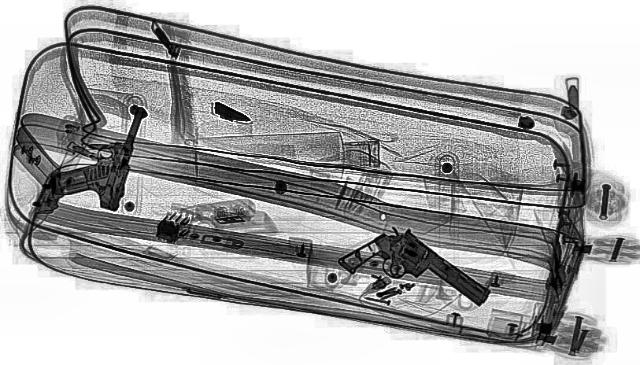Gun: (322, 222, 506, 326), (45, 98, 152, 210)
